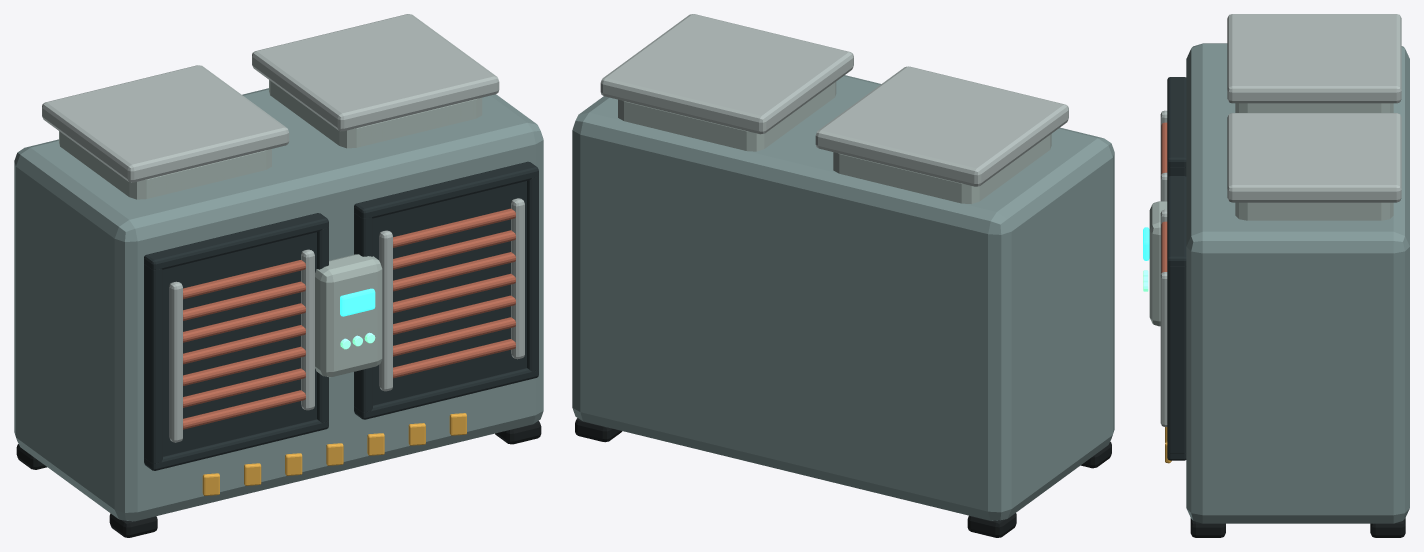
File: Échangeur thermique de ventilation.glb
The picture shows the model from 3 angles, left to right: view 1: azimuth 30°, elevation 25°; view 2: azimuth 150°, elevation 25°; view 3: azimuth 270°, elevation 25°; orthographic projection. The views are drawn at different scales.
Visible parts, largest first — view 1: EXCHANGER_Main_Housing, EXCHANGER_Top_Collar_-1, EXCHANGER_Top_Collar_1, EXCHANGER_Core_-1_Panel, EXCHANGER_Core_1_Panel, EXCHANGER_Center_Control, EXCHANGER_Top_Duct_1, EXCHANGER_Top_Duct_-1, EXCHANGER_Core_-1_Rail_Left, EXCHANGER_Core_1_Rail_Top, EXCHANGER_Core_-1_Rail_Top, EXCHANGER_Core_1_Rail_Right (+25 smaller); view 2: EXCHANGER_Main_Housing, EXCHANGER_Top_Collar_1, EXCHANGER_Top_Collar_-1, EXCHANGER_Top_Duct_1, EXCHANGER_Top_Duct_-1, EXCHANGER_Foot_-1_1, EXCHANGER_Foot_1_1; view 3: EXCHANGER_Main_Housing, EXCHANGER_Top_Collar_-1, EXCHANGER_Top_Collar_1, EXCHANGER_Core_1_Rail_Right, EXCHANGER_Top_Duct_1, EXCHANGER_Core_-1_Rail_Top, EXCHANGER_Core_1_Rail_Top, EXCHANGER_Top_Duct_-1, EXCHANGER_Center_Control, EXCHANGER_Manifold_1_1, EXCHANGER_Foot_1_-1, EXCHANGER_Foot_1_1 (+2 smaller).
Boxes of the visible parts, x1,y1,x2,y2 form: EXCHANGER_Main_Housing: [14, 88, 543, 521]; EXCHANGER_Top_Collar_-1: [42, 65, 289, 182]; EXCHANGER_Top_Collar_1: [252, 14, 499, 131]; EXCHANGER_Core_-1_Panel: [163, 232, 316, 456]; EXCHANGER_Core_1_Panel: [373, 181, 526, 405]; EXCHANGER_Center_Control: [315, 254, 382, 377]; EXCHANGER_Top_Duct_1: [269, 80, 482, 148]; EXCHANGER_Top_Duct_-1: [59, 131, 271, 199]; EXCHANGER_Core_-1_Rail_Left: [144, 263, 162, 463]; EXCHANGER_Core_1_Rail_Top: [354, 161, 538, 218]; EXCHANGER_Core_-1_Rail_Top: [144, 213, 328, 269]; EXCHANGER_Core_1_Rail_Right: [527, 176, 538, 371]; EXCHANGER_Main_Housing: [572, 75, 1114, 520]; EXCHANGER_Top_Collar_1: [600, 14, 853, 134]; EXCHANGER_Top_Collar_-1: [815, 66, 1068, 186]; EXCHANGER_Top_Duct_1: [618, 81, 836, 151]; EXCHANGER_Top_Duct_-1: [833, 134, 1051, 203]; EXCHANGER_Foot_-1_1: [967, 513, 1016, 537]; EXCHANGER_Foot_1_1: [575, 418, 622, 442]; EXCHANGER_Main_Housing: [1186, 43, 1409, 523]; EXCHANGER_Top_Collar_-1: [1227, 14, 1401, 103]; EXCHANGER_Top_Collar_1: [1227, 113, 1401, 202]; EXCHANGER_Core_1_Rail_Right: [1167, 265, 1186, 453]; EXCHANGER_Top_Duct_1: [1235, 202, 1393, 220]; EXCHANGER_Core_-1_Rail_Top: [1167, 77, 1186, 167]; EXCHANGER_Core_1_Rail_Top: [1167, 176, 1186, 266]; EXCHANGER_Top_Duct_-1: [1235, 103, 1393, 112]; EXCHANGER_Center_Control: [1149, 201, 1167, 326]; EXCHANGER_Manifold_1_1: [1160, 272, 1167, 426]; EXCHANGER_Foot_1_-1: [1190, 518, 1225, 537]; EXCHANGER_Foot_1_1: [1370, 518, 1405, 537].
Bounding box in the file's own units: 1.75 × 1.39 × 0.979.
